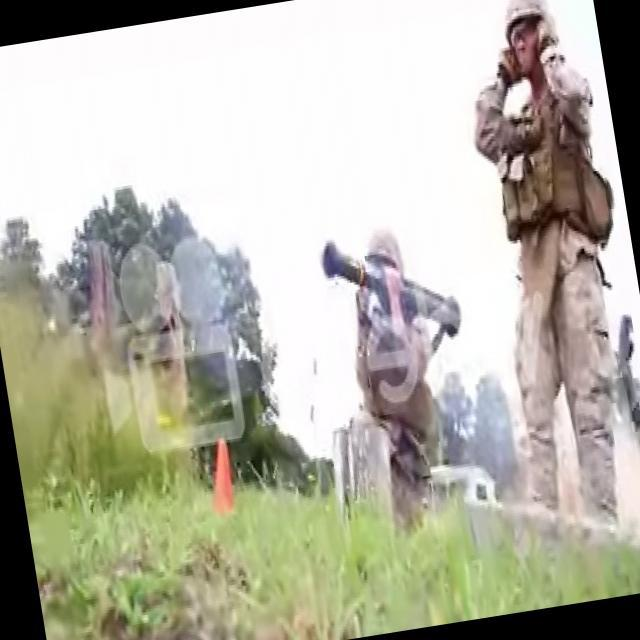rocket: (324, 224, 464, 360)
